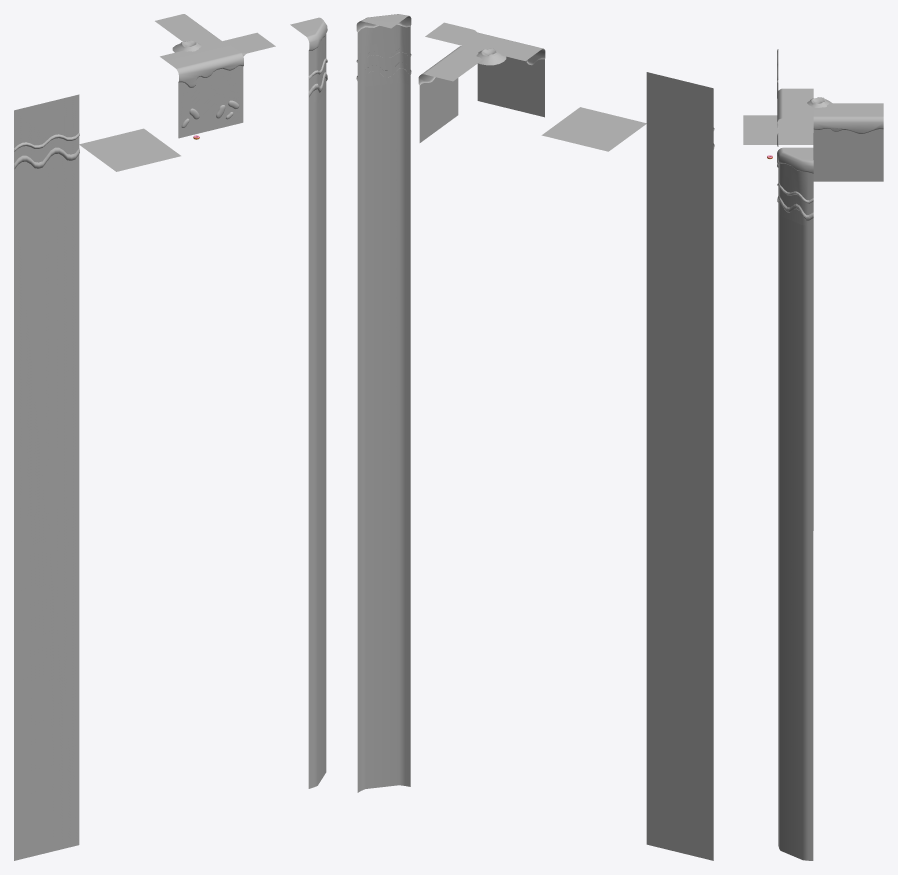
The model's file is GMTK2025_Trimsheet_Modular_Update 1.fbx.
3 renders of one model, left to right at view 1: azimuth 30°, elevation 25°; view 2: azimuth 150°, elevation 25°; view 3: azimuth 270°, elevation 25°, orthographic. The views are drawn at different scales.
Visible parts, largest first — view 1: Cake_Wall_Long4, Cake_Wall_Long_Corner, Cake_Wall_withTop2, Cake_Wall, Floor, Cake_Wall_Corner, Cake_Wall_withTop, FloorCorner; view 2: Cake_Wall_Long4, Cake_Wall_Long_Corner, Cake_Wall, Cake_Wall_withTop2, Cake_Wall_Corner, Cake_Wall_withTop, Floor; view 3: Cake_Wall_Long_Corner, Cake_Wall_withTop, Cake_Wall_Corner, Floor, Cake_Wall_withTop2, FloorCorner.
Boxes of the visible parts, bbox=[...] form: Cake_Wall_Long4: bbox=[14, 163, 79, 860]; Cake_Wall_Long_Corner: bbox=[308, 90, 326, 788]; Cake_Wall_withTop2: bbox=[160, 40, 243, 138]; Cake_Wall: bbox=[14, 94, 79, 178]; Floor: bbox=[79, 128, 180, 171]; Cake_Wall_Corner: bbox=[290, 17, 327, 106]; Cake_Wall_withTop: bbox=[155, 14, 221, 46]; FloorCorner: bbox=[225, 32, 275, 56]; Cake_Wall_Long4: bbox=[646, 142, 713, 860]; Cake_Wall_Long_Corner: bbox=[357, 83, 410, 792]; Cake_Wall: bbox=[646, 72, 713, 158]; Cake_Wall_withTop2: bbox=[459, 32, 545, 117]; Cake_Wall_Corner: bbox=[356, 14, 411, 90]; Cake_Wall_withTop: bbox=[418, 46, 482, 142]; Floor: bbox=[541, 107, 646, 151]; Cake_Wall_Long_Corner: bbox=[778, 211, 813, 860]; Cake_Wall_withTop: bbox=[813, 103, 883, 181]; Cake_Wall_Corner: bbox=[777, 147, 813, 225]; Floor: bbox=[743, 115, 813, 144]; Cake_Wall_withTop2: bbox=[777, 88, 813, 128]; FloorCorner: bbox=[778, 118, 813, 132].
Bounding box in the file's own units: 5.04 × 11.06 × 2.
